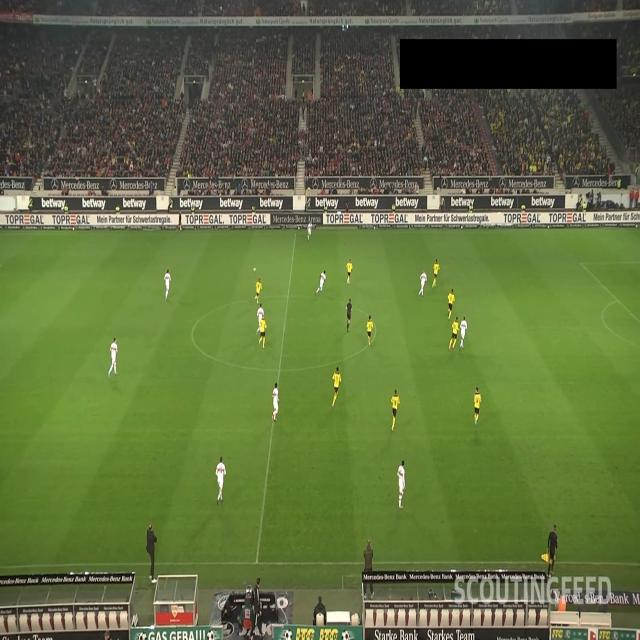ball: (253, 266, 256, 272)
